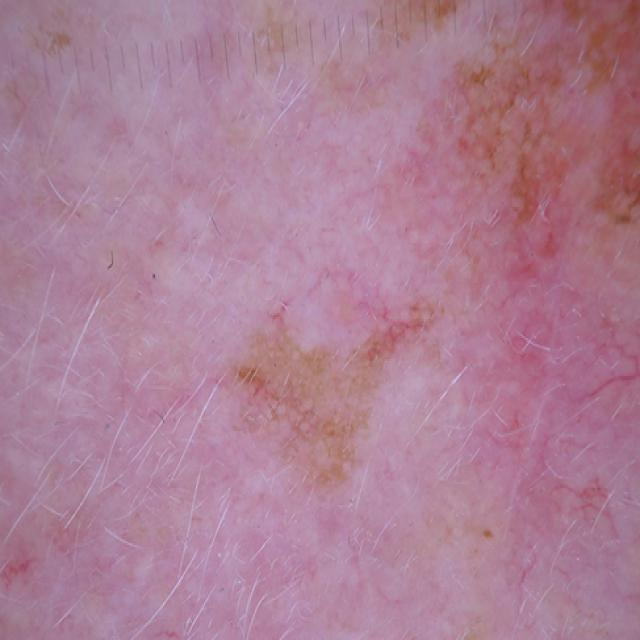Keratosis: (399, 0, 640, 254), (238, 285, 417, 563)
